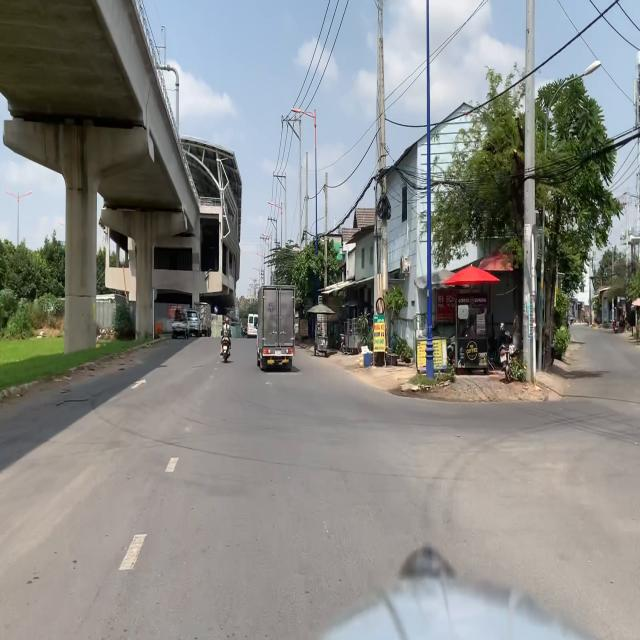Hieu lenh: (214, 306, 218, 313)
